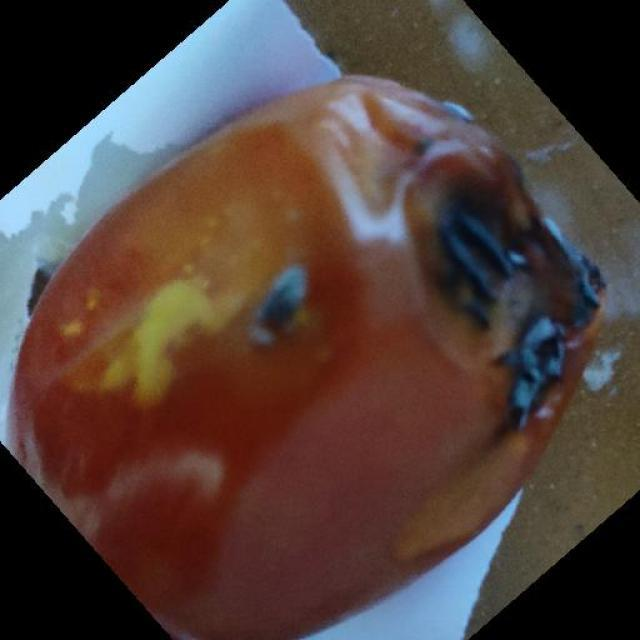Rotten Tomato: (24, 45, 607, 607)
